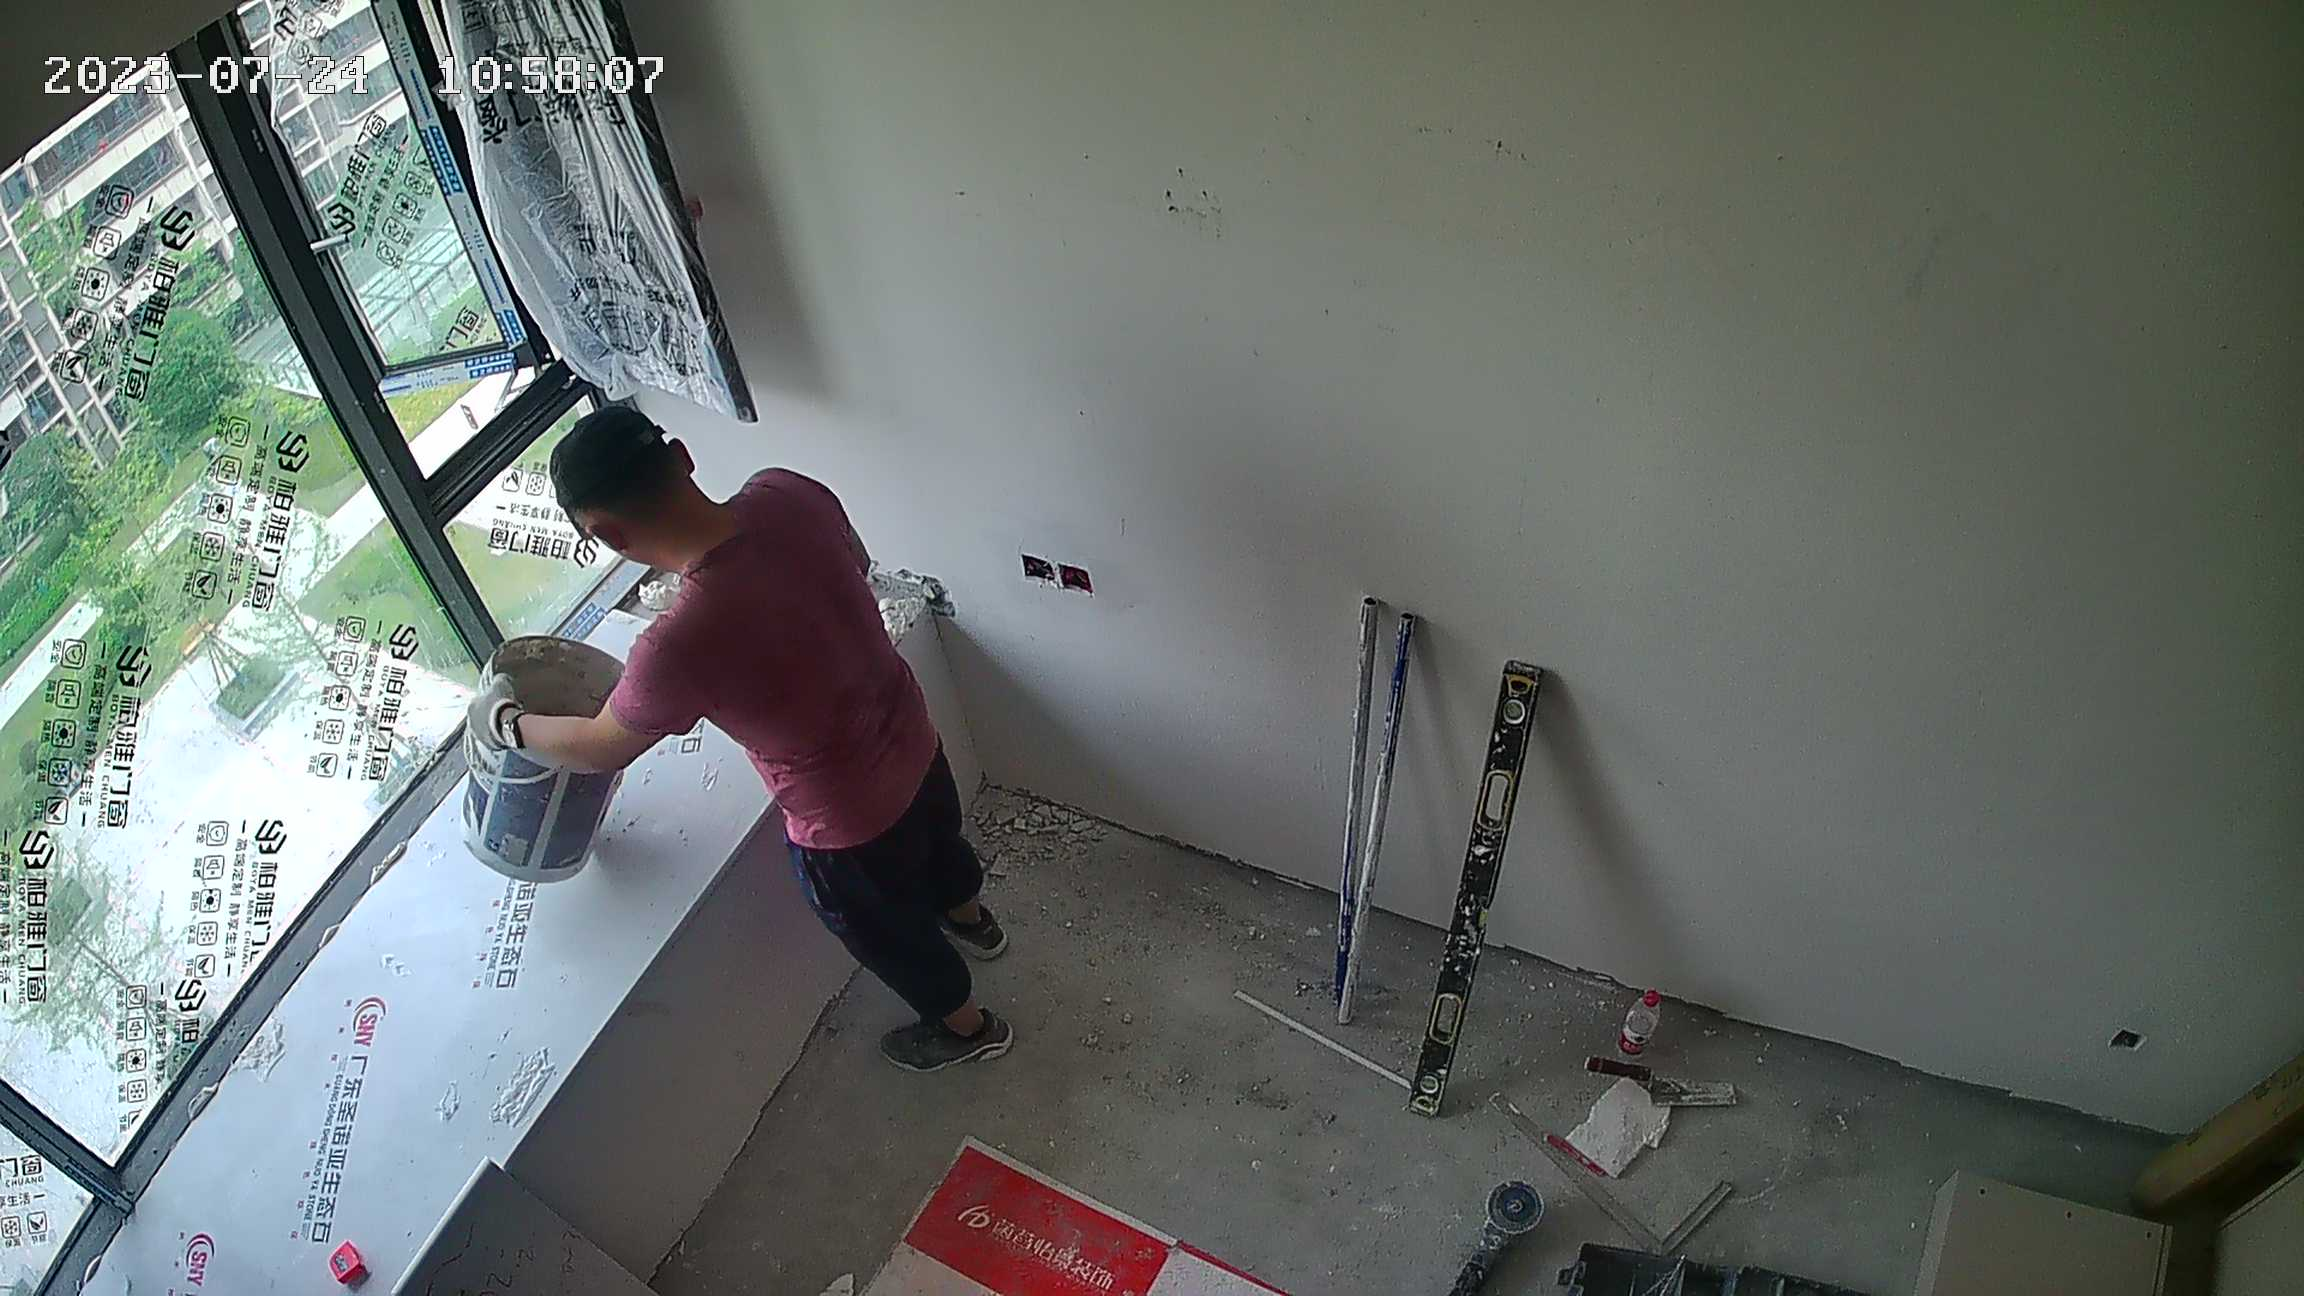people: (487, 418, 1022, 1072)
window: (4, 6, 622, 1288)
